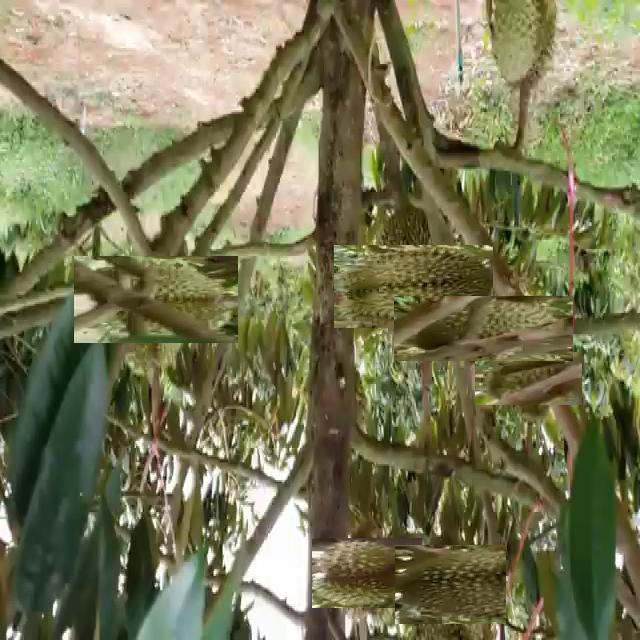durian: (93, 237, 219, 363), (422, 267, 545, 390), (353, 225, 474, 347), (402, 537, 498, 632), (322, 527, 413, 618), (484, 2, 560, 93), (488, 338, 569, 418)
